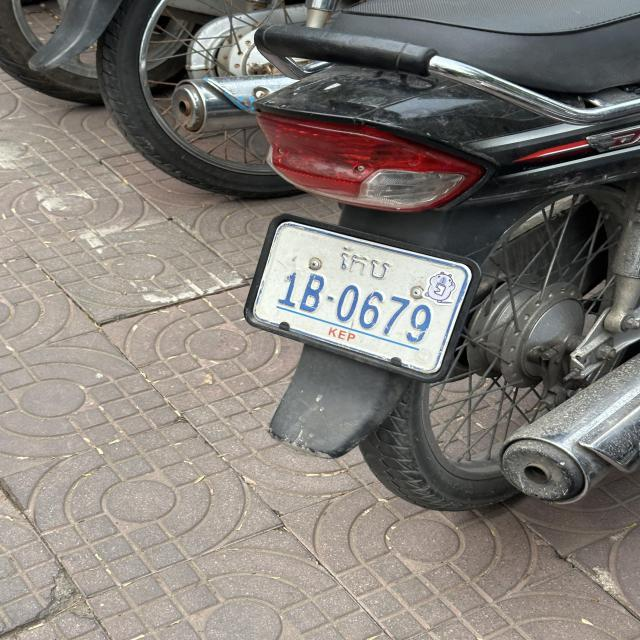Kep: (339, 246, 393, 284)
